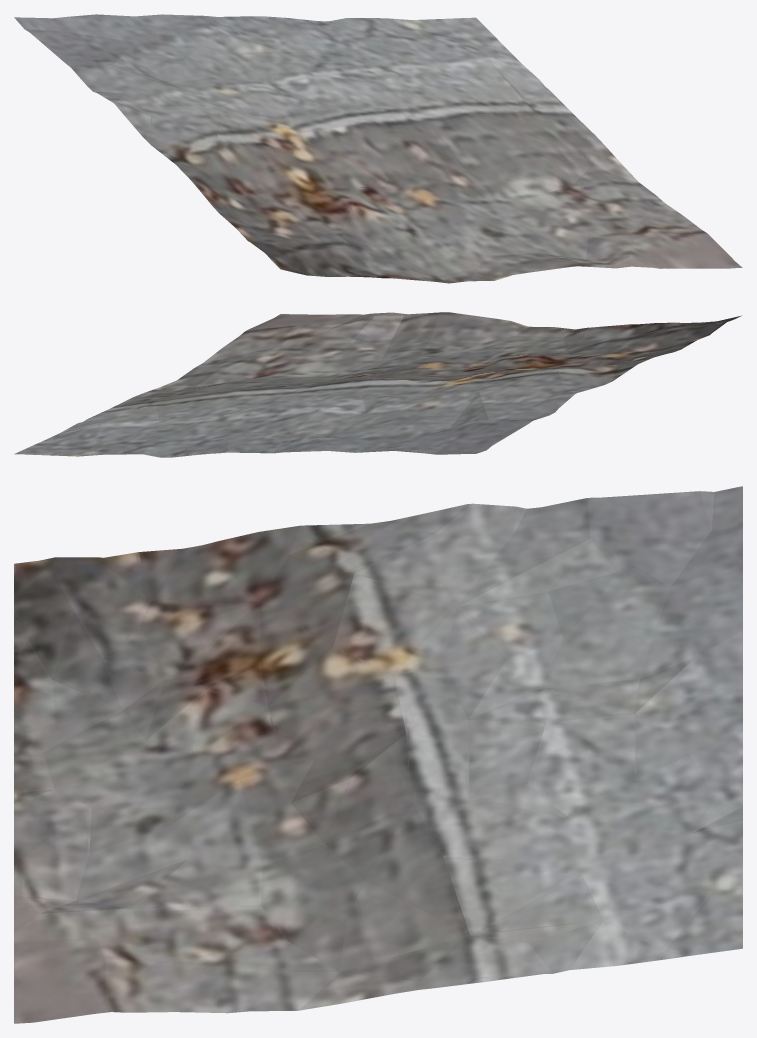
3 renders of one model, top to bottom at view 1: azimuth 30°, elevation 25°; view 2: azimuth 150°, elevation 25°; view 3: azimuth 270°, elevation 25°, orthographic. The views are drawn at different scales.
Size of the model in its own units: 1.67 by 0.5818 by 1.67.
Materials: 3 (3 with a texture image).
